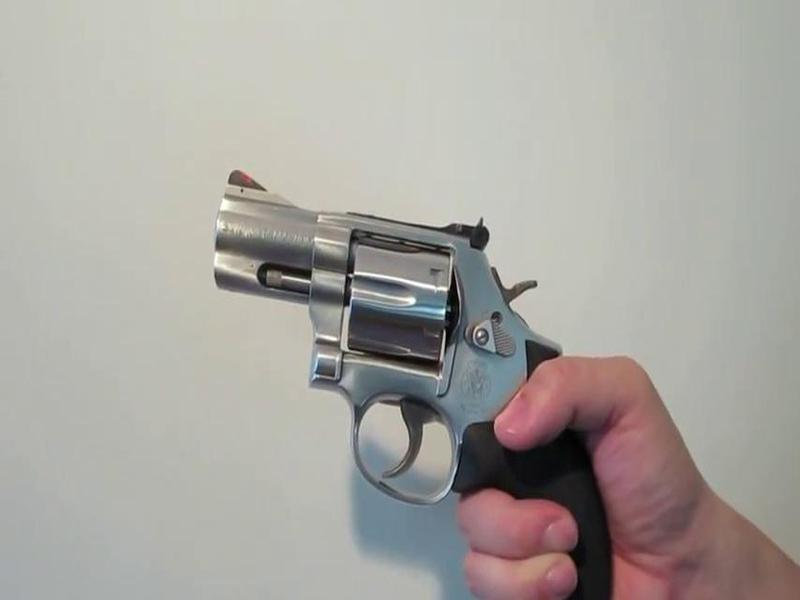Revolver: (193, 137, 648, 600)
